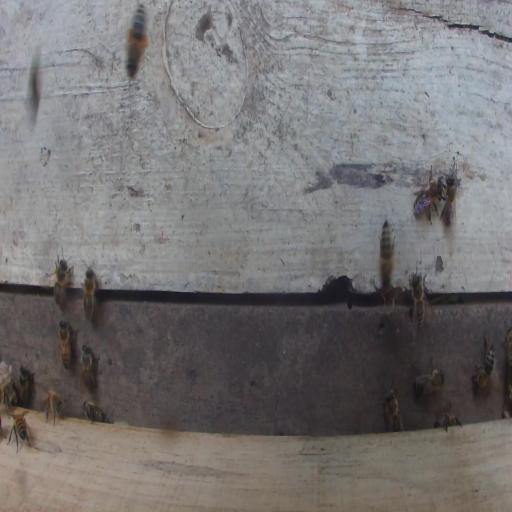nonpollenbee: (413, 166, 444, 224), (46, 252, 75, 310), (471, 334, 495, 391), (408, 268, 426, 335), (7, 408, 33, 453), (57, 317, 78, 372), (379, 220, 395, 288), (440, 174, 458, 234), (80, 343, 101, 394), (413, 366, 445, 397), (41, 388, 65, 427), (384, 386, 404, 432), (82, 266, 98, 323), (17, 366, 34, 404), (434, 411, 463, 433), (82, 400, 109, 423)
pollenbee: (124, 2, 150, 81)
